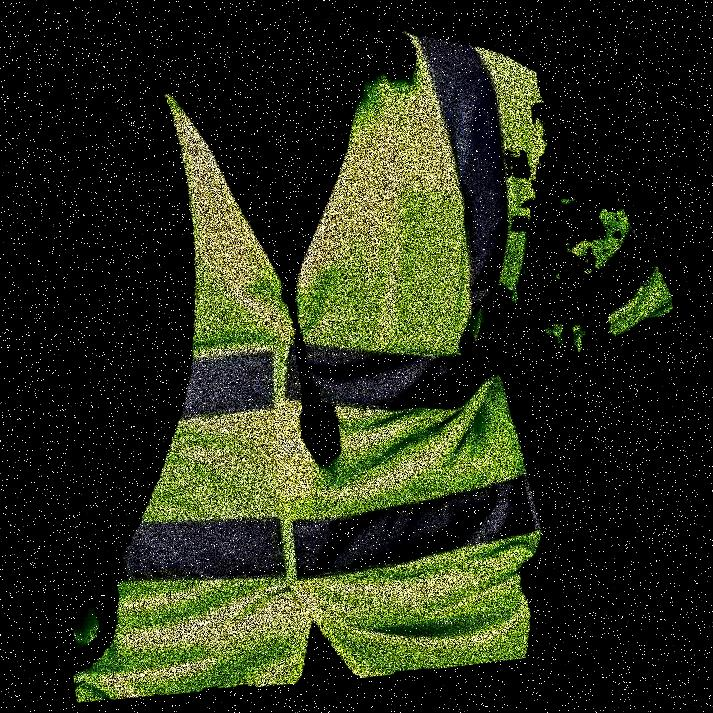Colete: (305, 0, 527, 712)
